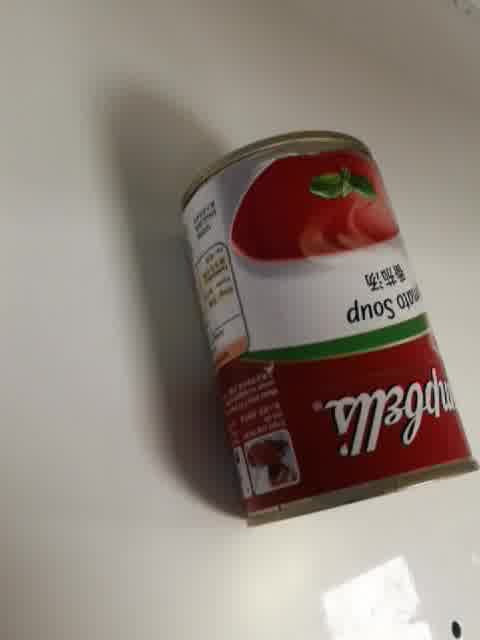tomatosoup: (178, 128, 479, 528)
